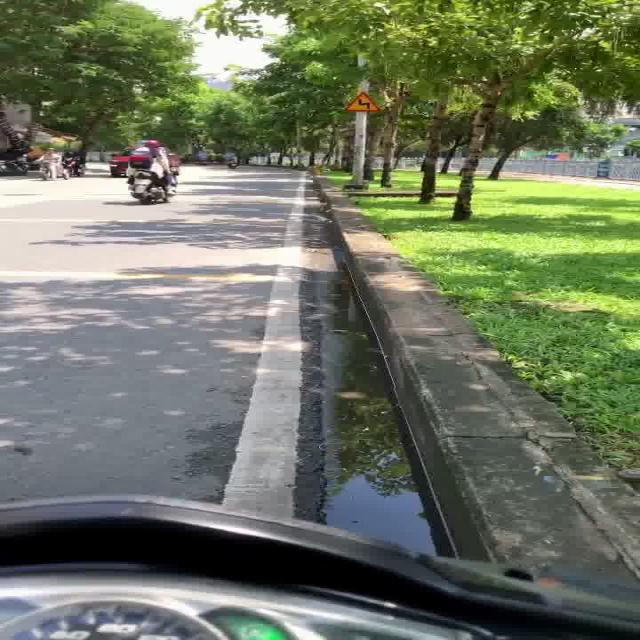Bien bao nhieu cho ngoat nguy hiem lien tiep: (341, 90, 384, 113)
